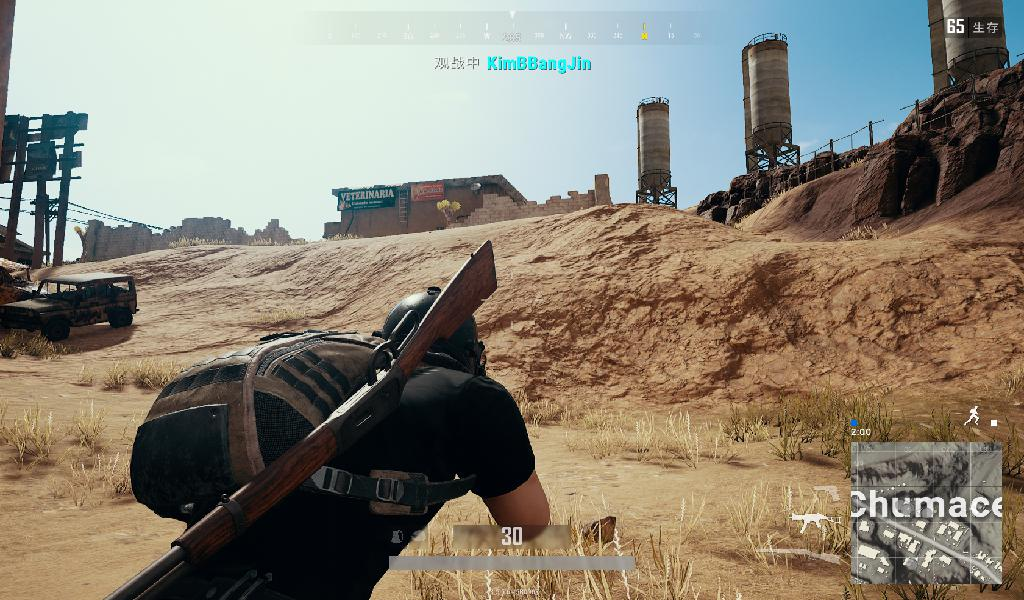Target Person: (98, 240, 554, 600)
